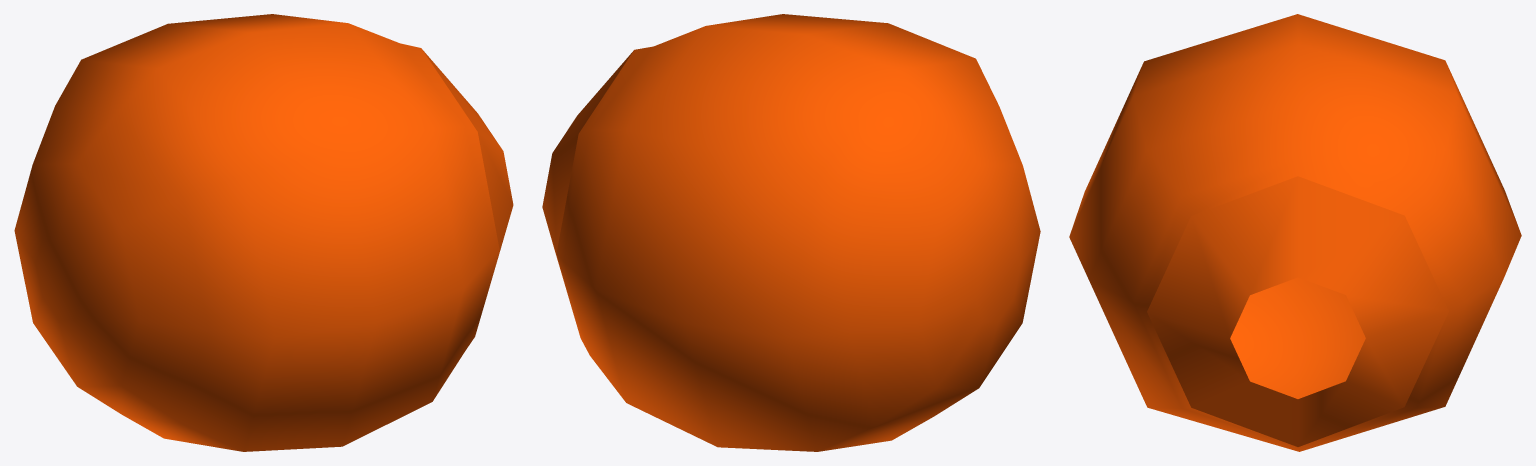
The model's file is Glove_Right.fbx.
The picture shows the model from 3 angles, left to right: view 1: azimuth 30°, elevation 25°; view 2: azimuth 150°, elevation 25°; view 3: azimuth 270°, elevation 25°; orthographic projection. The views are drawn at different scales.
Parts seen in each view (by area): view 1: Glove_Right; view 2: Glove_Right; view 3: Glove_Right.
Boxes of the visible parts, x1=… form: Glove_Right: x1=14, y1=14, x2=513, y2=451; Glove_Right: x1=542, y1=14, x2=1040, y2=451; Glove_Right: x1=1069, y1=14, x2=1521, y2=451.
Size of the model in its own units: 30.07 by 27.48 by 29.71.
